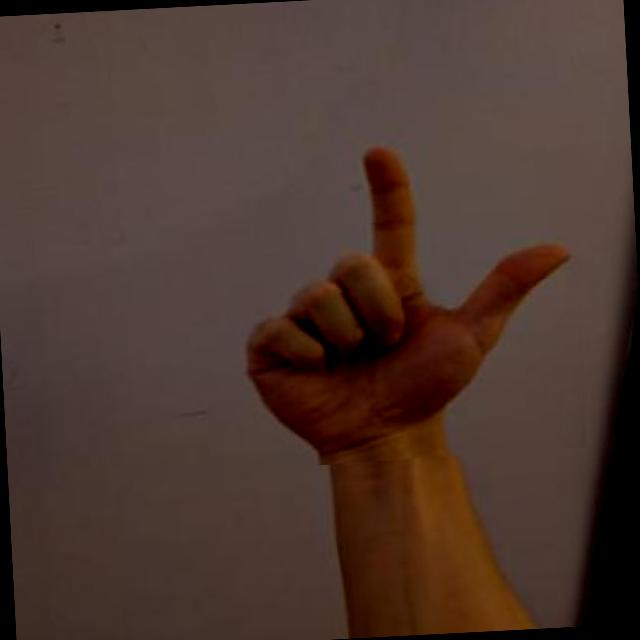L: (228, 129, 596, 470)
